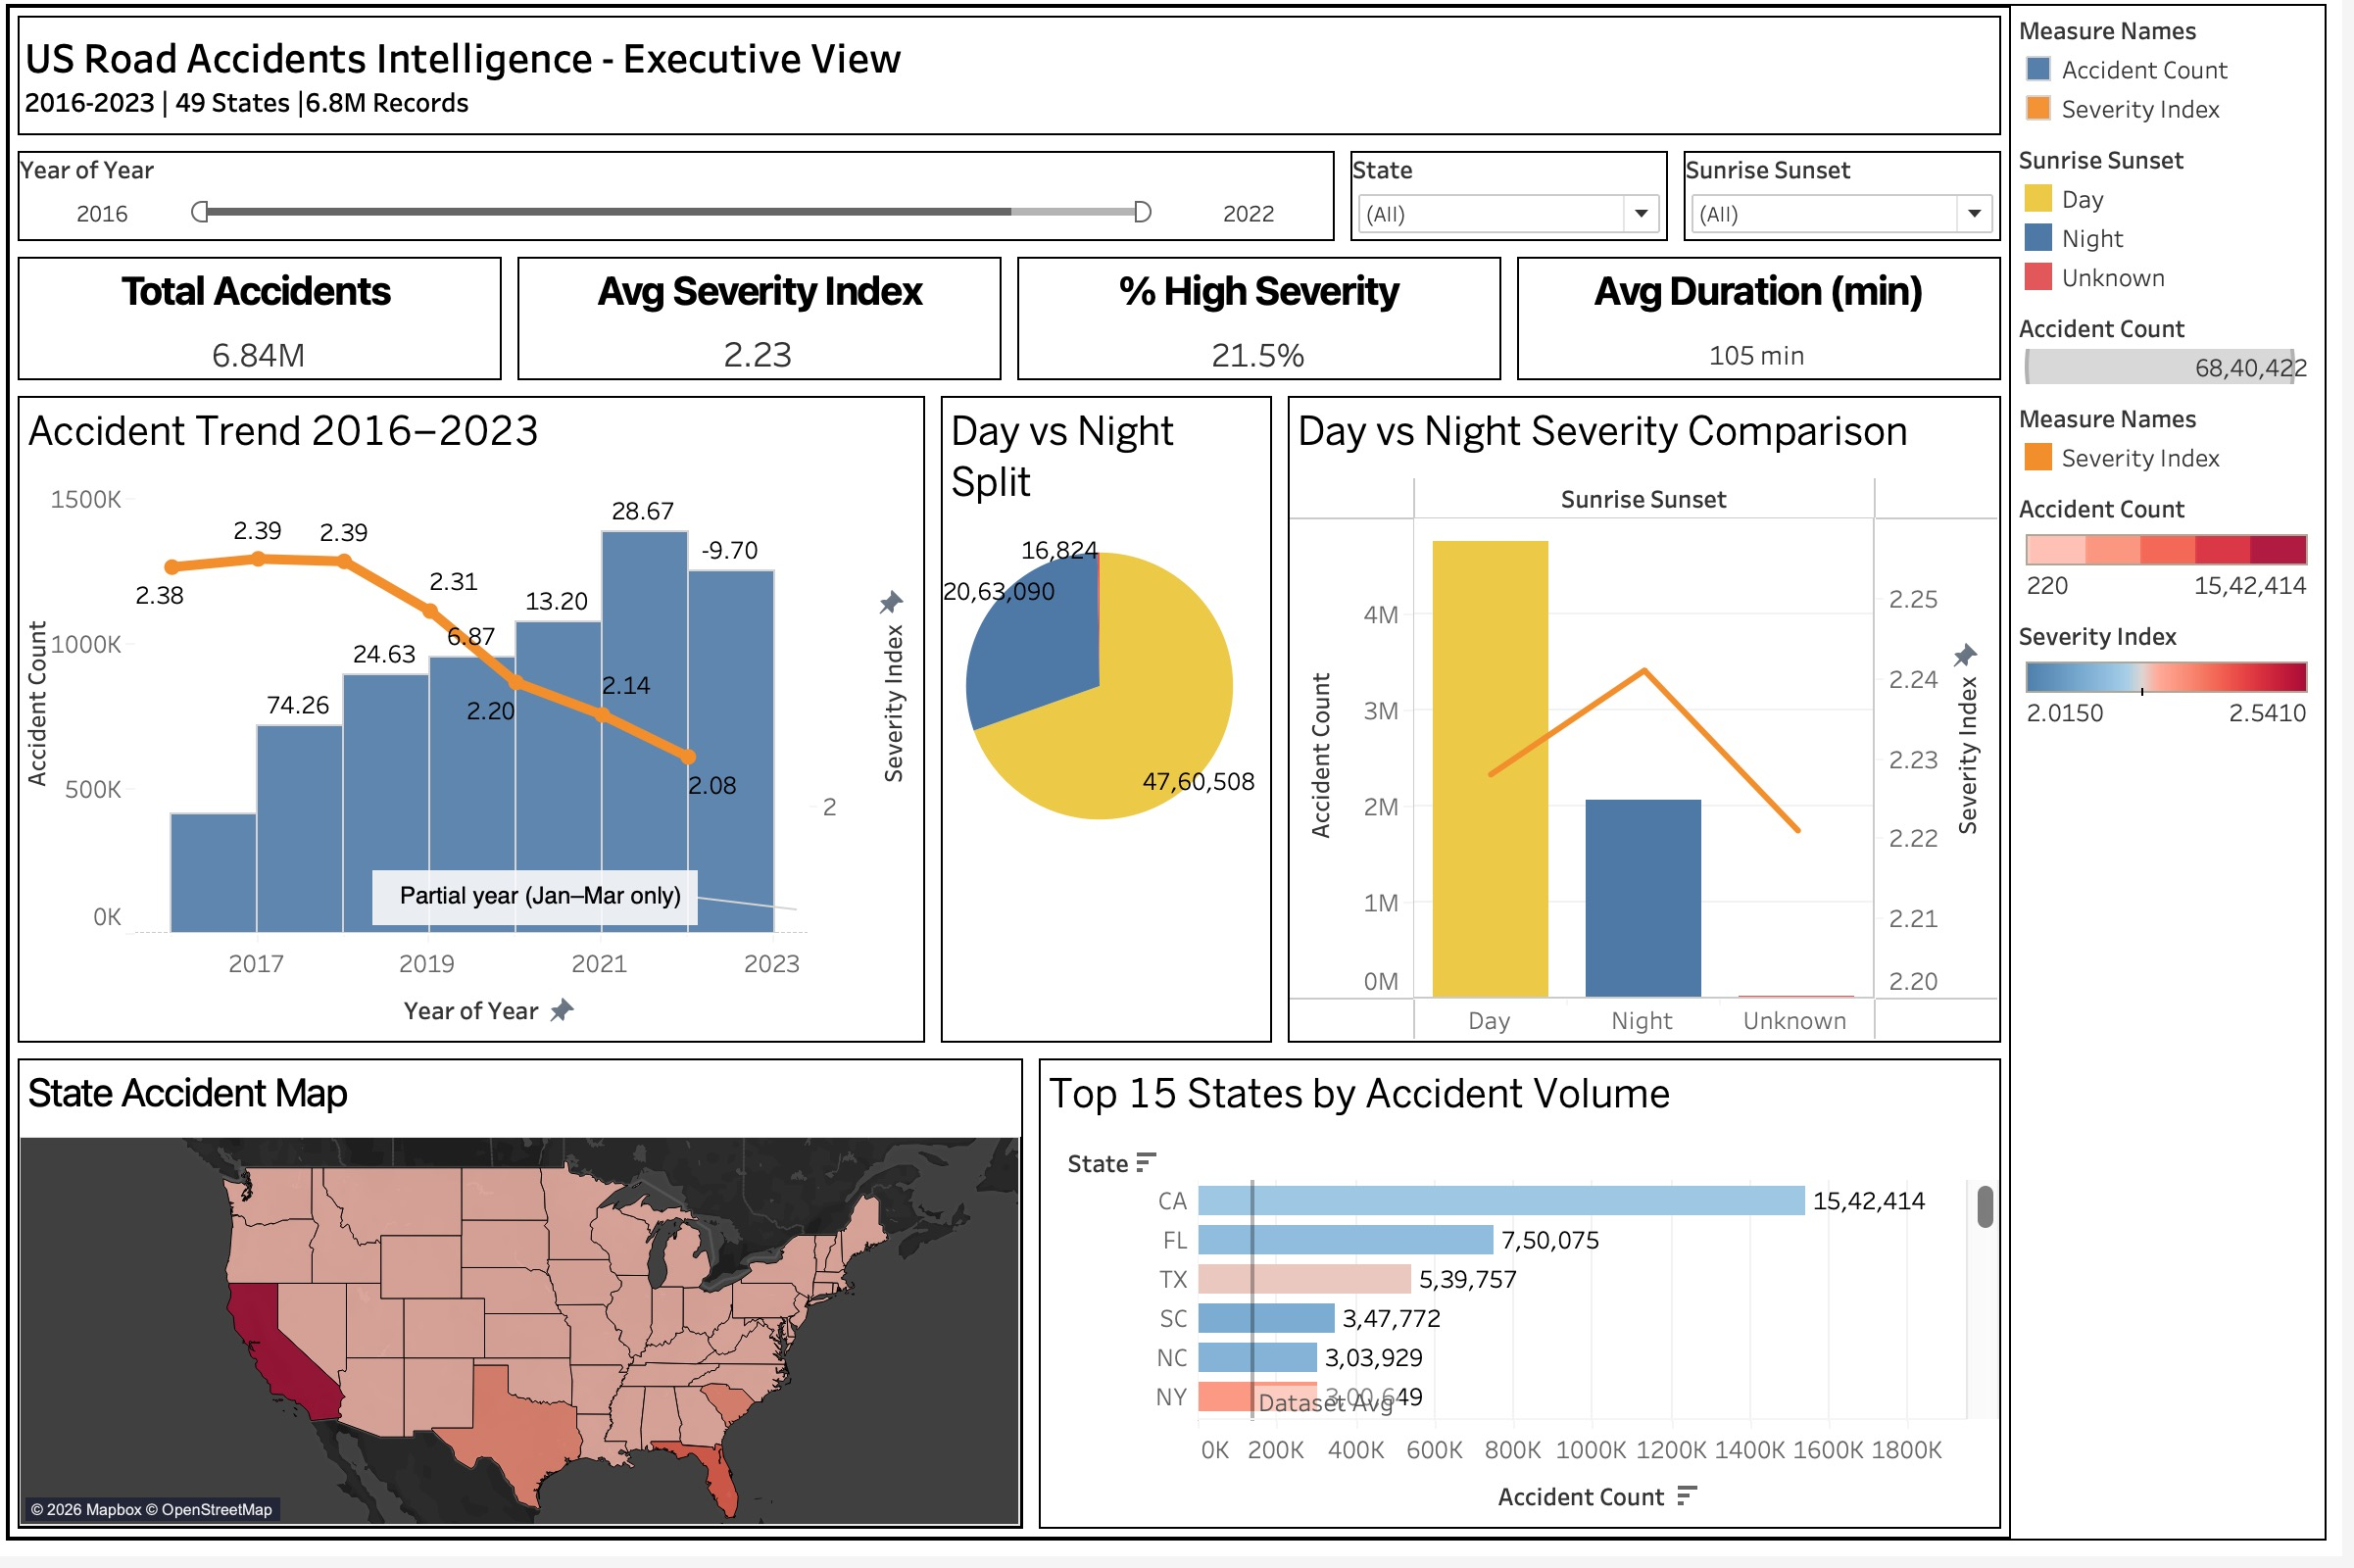

Layout of this report page (visuals, bound fields, positions):
{"tool":"tableau","page":{"name":"Dashboard 1","canvas":[1000,1000],"units":"permille","ordinal":0},"visuals":[{"type":"text","box":[8,11.7,984,60.7]},{"type":"filter","title":"Accident Trend 2016–2023","param":"[federated.1qphlrd0qibmep1a9rqfa0ml78j6].[tyr:year:ok]","box":[8,72.4,328.5,66.5]},{"type":"filter","title":"State Accident Map","param":"[federated.1rsizny1e0a6xs1ficzc109jwz0w].[none:state:nk]","box":[336.5,72.4,327.7,66.5]},{"type":"filter","title":"Day vs Night Split","param":"[federated.1u1iwsq03y8dj317zwh4e16tnejo].[none:sunrise_sunset:nk]","box":[664.3,72.4,327.7,66.5]},{"type":"worksheet","title":"Total Accidents ","mark":"Automatic","box":[8,138.9,246.2,82.8]},{"type":"worksheet","title":"Avg Severity Index","mark":"Automatic","box":[254.2,138.9,246.2,82.8]},{"type":"worksheet","title":"% High Severity","mark":"Automatic","box":[500.4,138.9,246.2,82.8]},{"type":"worksheet","title":"Avg Duration (min)","mark":"Automatic","box":[746.6,138.9,245.4,82.8]},{"type":"worksheet","title":"Accident Trend 2016–2023","mark":"Automatic","rows":["accident_count","severity_index"],"cols":["year"],"box":[8,221.7,429.2,337.2]},{"type":"worksheet","title":"Day vs Night Split","mark":"Pie","box":[437.2,221.7,229.4,337.2]},{"type":"worksheet","title":"Day vs Night Severity Comparison","mark":"Bar","rows":["accident_count","severity_index"],"cols":["sunrise_sunset"],"box":[666.6,221.7,325.4,337.2]},{"type":"legend","title":"Day vs Night Severity Comparison","param":"[federated.1u1iwsq03y8dj317zwh4e16tnejo].[:Measure Names]","box":[843.3,308.1,111.9,44.3]},{"type":"legend","title":"Accident Trend 2016–2023","param":"[federated.1qphlrd0qibmep1a9rqfa0ml78j6].[:Measure Names]","box":[8,558.9,212.6,70]},{"type":"legend","title":"State Accident Map","param":"[federated.1rsizny1e0a6xs1ficzc109jwz0w].[sum:accident_count:qk]","box":[220.6,558.9,227,70]},{"type":"legend","title":"Day vs Night Split","param":"[federated.1u1iwsq03y8dj317zwh4e16tnejo].[none:sunrise_sunset:nk]","box":[447.6,558.9,208.6,70]},{"type":"legend","title":"Top 12 States by Volume","param":"[federated.1rsizny1e0a6xs1ficzc109jwz0w].[sum:severity_index:qk]","box":[656.3,558.9,335.8,70]},{"type":"worksheet","title":"State Accident Map","mark":"Automatic","box":[8,628.9,418.1,359.4]},{"type":"worksheet","title":"Top 12 States by Volume","mark":"Automatic","rows":["state"],"cols":["accident_count"],"box":[426.1,628.9,566,359.4]}]}

Visuals, with their boxes on the dashboard's canvas, which has no fixed pixel size, in thousandths of its width and height (x1, y1, x2, y2). These are canvas units, not pixel positions in the 2354x1568 screenshot, which may show the page scaled, cropped or inside an application window:
text: <region>8, 12, 992, 72</region>
"Accident Trend 2016–2023" filter: <region>8, 72, 336, 139</region>
"State Accident Map" filter: <region>336, 72, 664, 139</region>
"Day vs Night Split" filter: <region>664, 72, 992, 139</region>
"Total Accidents " worksheet: <region>8, 139, 254, 222</region>
"Avg Severity Index" worksheet: <region>254, 139, 500, 222</region>
"% High Severity" worksheet: <region>500, 139, 747, 222</region>
"Avg Duration (min)" worksheet: <region>747, 139, 992, 222</region>
"Accident Trend 2016–2023" worksheet: <region>8, 222, 437, 559</region>
"Day vs Night Split" worksheet (Pie marks): <region>437, 222, 667, 559</region>
"Day vs Night Severity Comparison" worksheet (Bar marks): <region>667, 222, 992, 559</region>
"Day vs Night Severity Comparison" legend: <region>843, 308, 955, 352</region>
"Accident Trend 2016–2023" legend: <region>8, 559, 221, 629</region>
"State Accident Map" legend: <region>221, 559, 448, 629</region>
"Day vs Night Split" legend: <region>448, 559, 656, 629</region>
"Top 12 States by Volume" legend: <region>656, 559, 992, 629</region>
"State Accident Map" worksheet: <region>8, 629, 426, 988</region>
"Top 12 States by Volume" worksheet: <region>426, 629, 992, 988</region>
